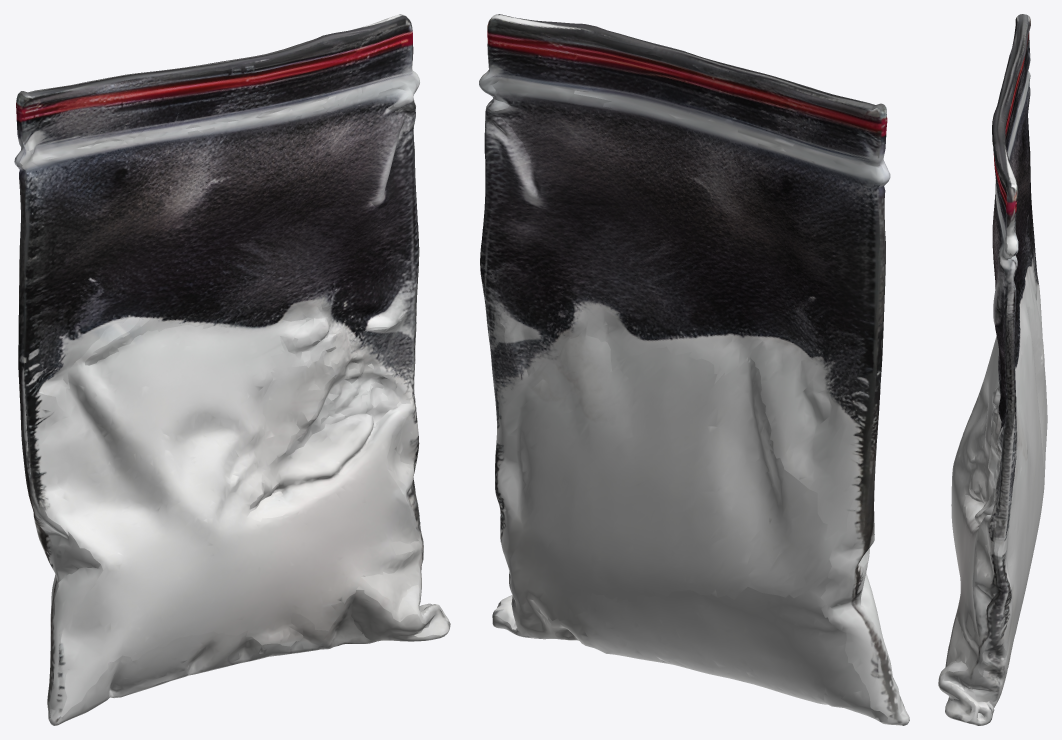
The picture shows the model from 3 angles, left to right: view 1: azimuth 30°, elevation 25°; view 2: azimuth 150°, elevation 25°; view 3: azimuth 270°, elevation 25°; orthographic projection. The views are drawn at different scales.
Parts seen in each view (by area): view 1: textured_mesh; view 2: textured_mesh; view 3: textured_mesh.
Part boxes in pixels (x1,y1,x2,y2): textured_mesh: (14, 14, 450, 725); textured_mesh: (479, 14, 909, 725); textured_mesh: (938, 14, 1047, 725).
Size of the model in its own units: 1.34 by 1.96 by 0.3544.
1 material, 1 textured.
